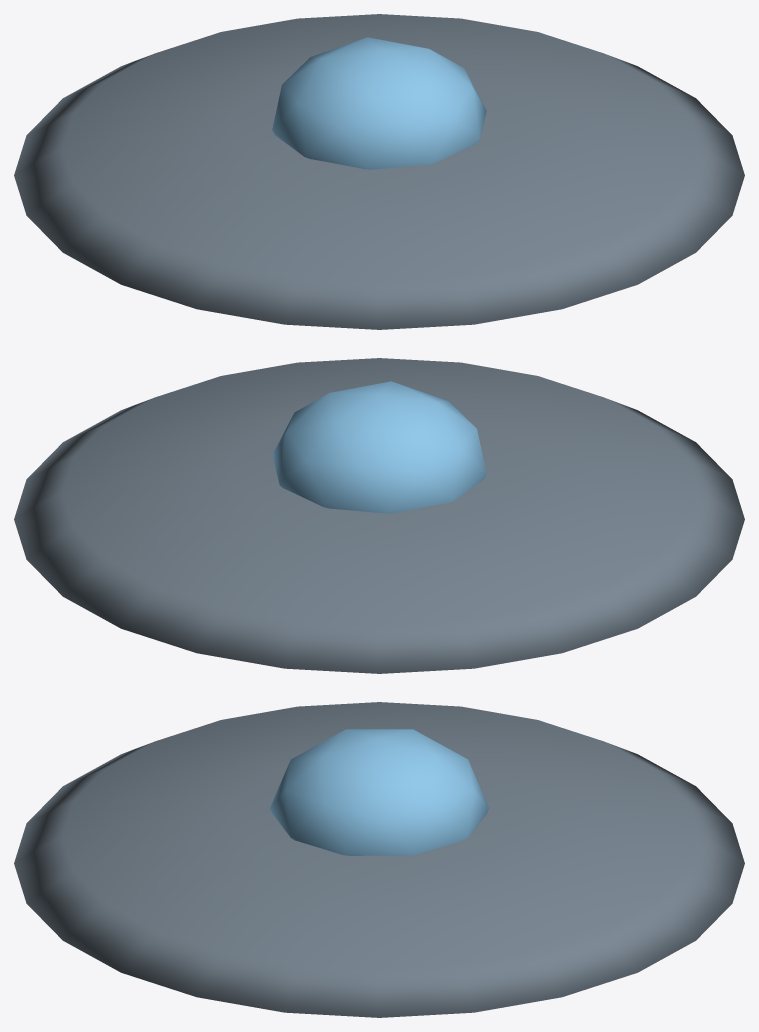
File: martian_saucer.glb
The picture shows the model from 3 angles, top to bottom: view 1: azimuth 30°, elevation 25°; view 2: azimuth 150°, elevation 25°; view 3: azimuth 270°, elevation 25°; orthographic projection.
Parts seen in each view (by area): view 1: martian_saucer; view 2: martian_saucer; view 3: martian_saucer.
Part boxes in pixels (bbox=[...]): martian_saucer: bbox=[14, 14, 744, 329]; martian_saucer: bbox=[14, 358, 744, 673]; martian_saucer: bbox=[14, 702, 744, 1017].
Size of the model in its own units: 6 by 2.33 by 6.
